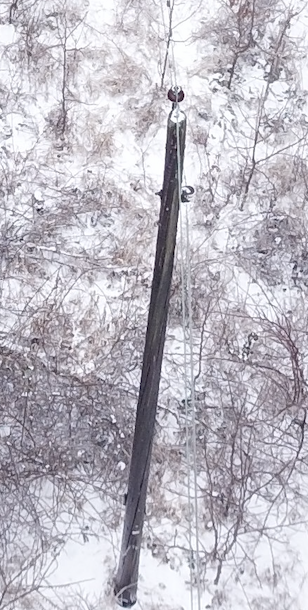pole: (95, 65, 247, 607)
